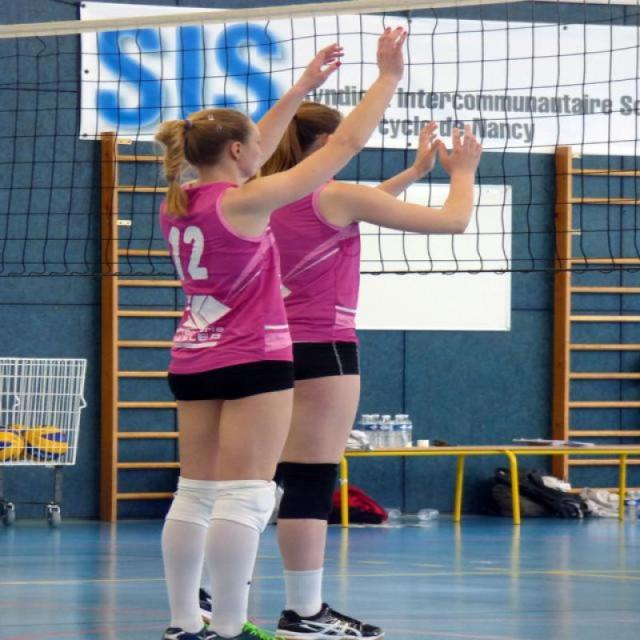volleyball: (19, 422, 70, 463), (0, 424, 27, 462), (10, 422, 30, 462)
